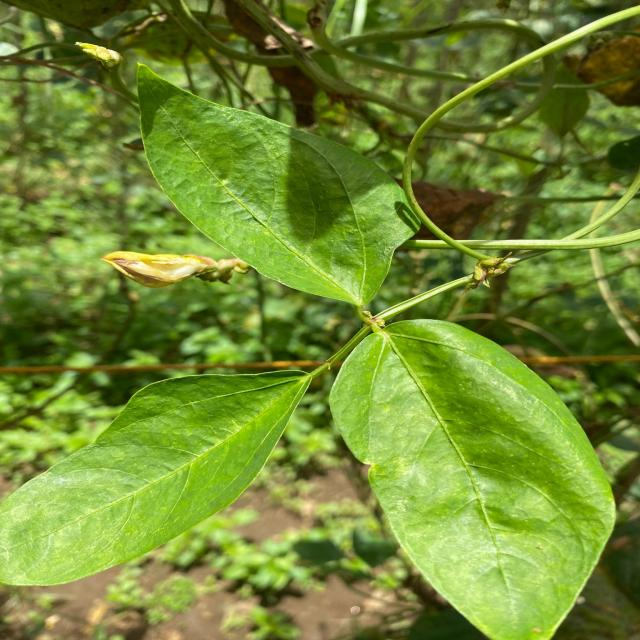leaf-low: (329, 319, 615, 640), (137, 64, 429, 322), (2, 363, 328, 585)
